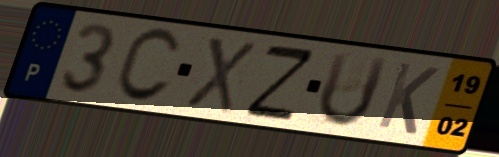3: (58, 22, 121, 96)
C: (110, 26, 184, 106)
K: (373, 59, 443, 138)
U: (315, 49, 392, 130)
X: (181, 33, 259, 116)
Z: (241, 43, 319, 122)
